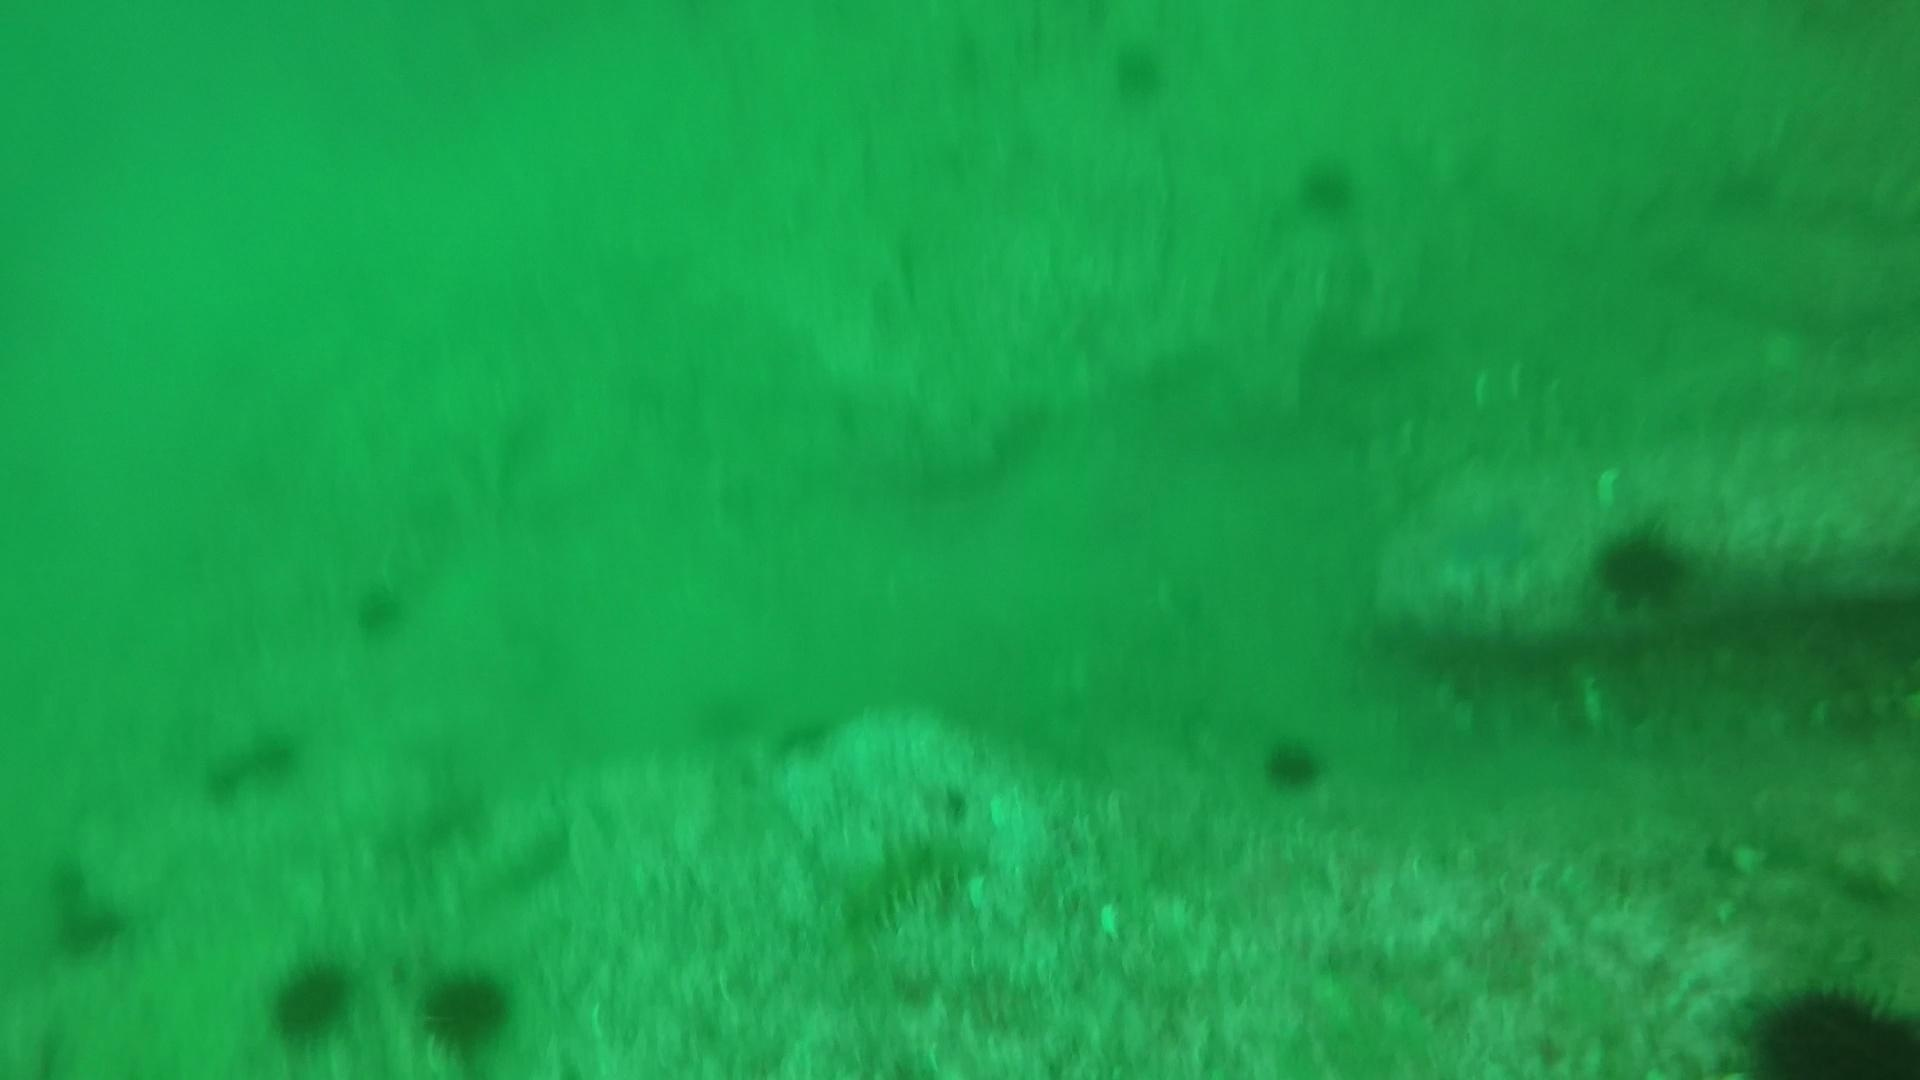echinus: (1738, 975, 1919, 1076), (414, 960, 520, 1059), (1588, 518, 1693, 611), (262, 951, 360, 1047), (1292, 150, 1364, 219), (1257, 731, 1331, 795), (1104, 38, 1174, 105), (348, 576, 414, 642), (55, 907, 121, 964), (241, 732, 299, 783), (196, 767, 255, 818), (49, 866, 94, 916)
holothurian: (829, 811, 986, 931)
